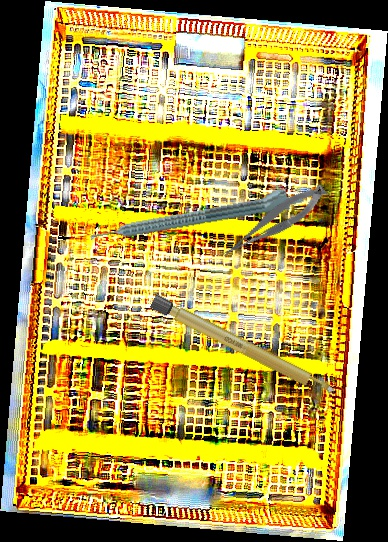Handpiece: (87, 182, 305, 245)
Micro Scissor: (212, 179, 335, 263)
Scalpel Handle: (149, 293, 338, 401)
